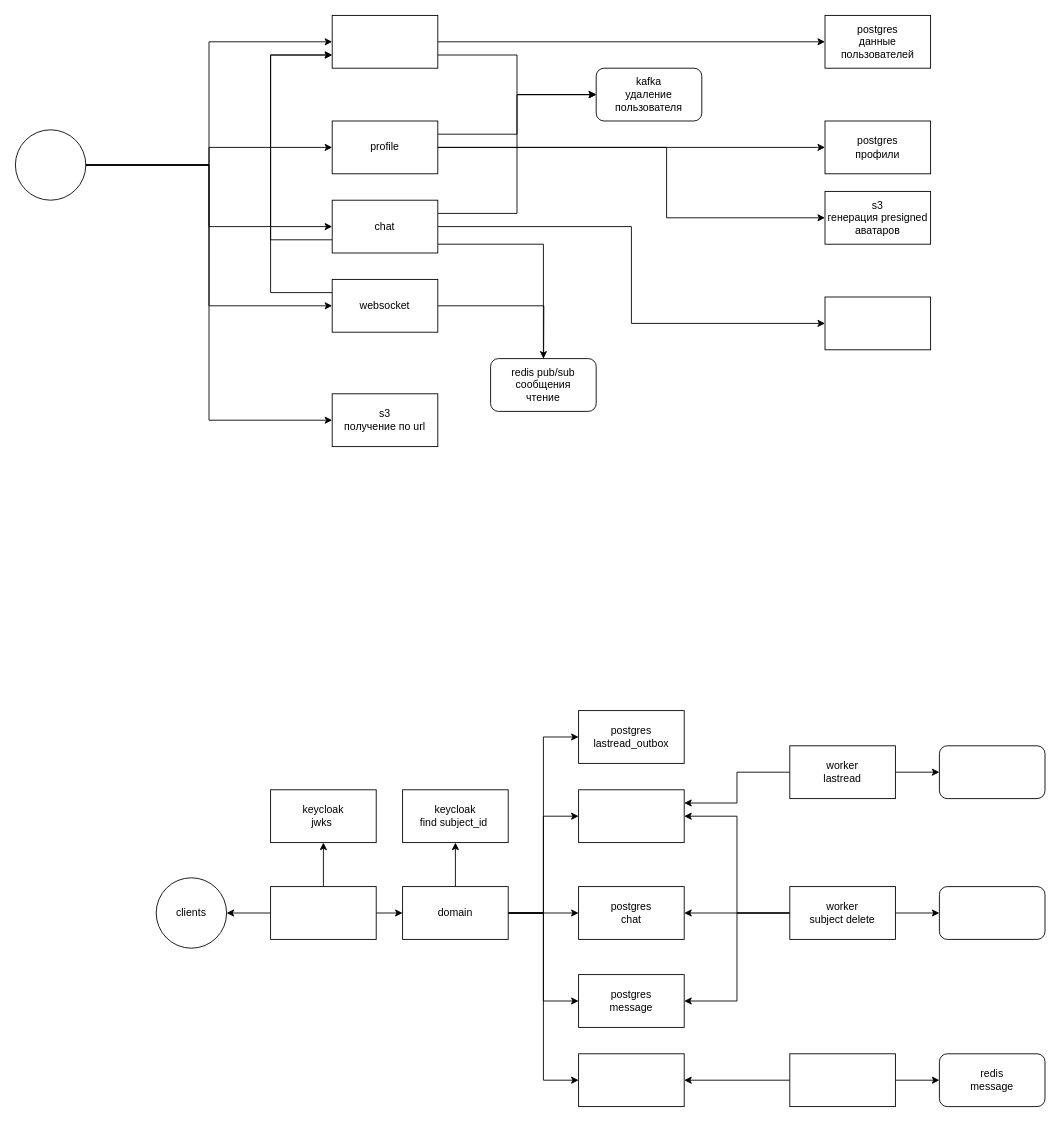
The diagram is 1060 pixels wide and 1122 high, and some of its shapes have lost their labels. Each missing label, with the centre of its shape:
"client" goes at point 50,164.
"kafka subject delete" goes at point 992,912.
"keycloak (авторизация)" goes at point 384,41.
"postgres lastread" goes at point 631,816.
"postgres message_outbox" goes at point 631,1080.
"postgres сообщения/чаты" goes at point 877,323.
"redis lastread" goes at point 992,772.
"server" goes at point 323,912.
"worker message" goes at point 842,1080.
